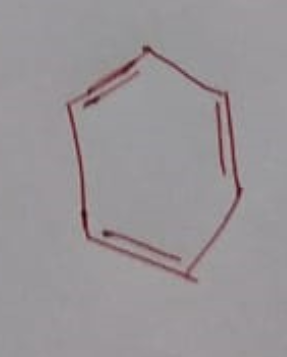shape_mask: (60, 31, 259, 293)
